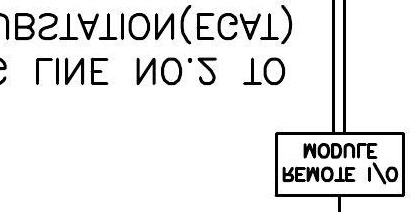remote_io_module: (274, 132, 405, 197)
